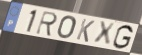1: (25, 9, 39, 34)
G: (112, 25, 134, 51)
K: (75, 18, 96, 44)
O: (56, 15, 77, 40)
R: (34, 10, 59, 38)
X: (92, 21, 116, 47)
